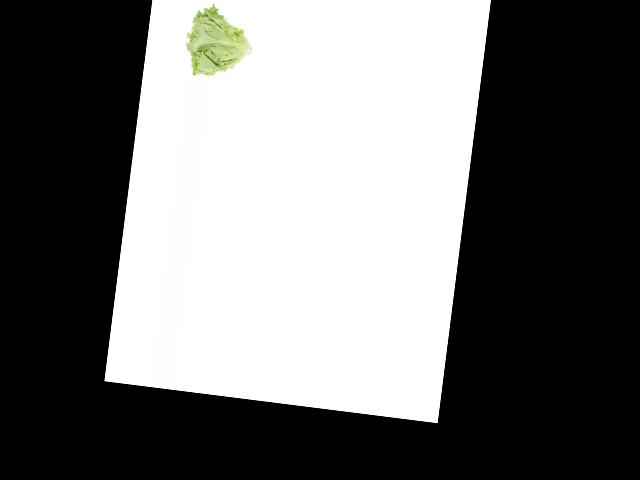lettuce: (178, 4, 258, 83)
